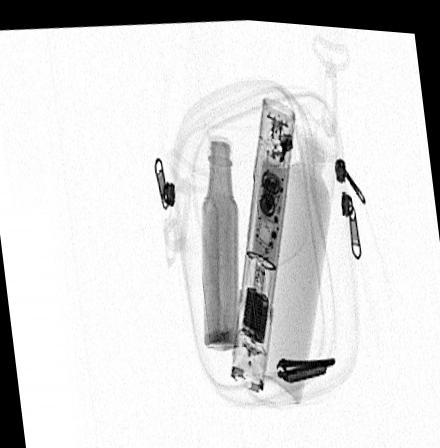Baton: (231, 90, 296, 388)
